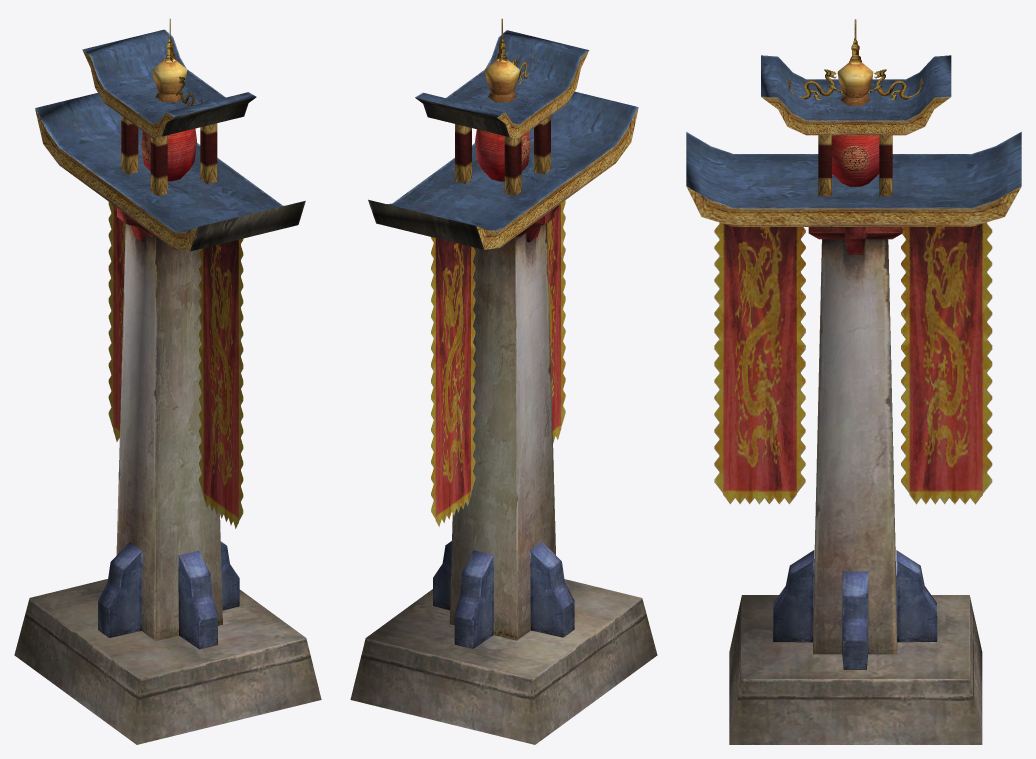
Rendered from cj_jang_gaobj01.glb.
3 renders of one model, left to right at view 1: azimuth 30°, elevation 25°; view 2: azimuth 150°, elevation 25°; view 3: azimuth 270°, elevation 25°, orthographic. The views are drawn at different scales.
Visible parts, largest first — view 1: cj_jang_gateOBJ01, cj_jang_gateOBJ06, cj_jang_gateOBJ02, cj_jang_gateOBJ09, cj_jang_gateOBJ04; view 2: cj_jang_gateOBJ01, cj_jang_gateOBJ06, cj_jang_gateOBJ02, cj_jang_gateOBJ09, cj_jang_gateOBJ04; view 3: cj_jang_gateOBJ09, cj_jang_gateOBJ01, cj_jang_gateOBJ06, cj_jang_gateOBJ02, cj_jang_gateOBJ04, cj_jang_gateOBJ03.
Part boxes in pixels (x1,y1,x2,y2): cj_jang_gateOBJ01: [35, 50, 239, 649]; cj_jang_gateOBJ06: [14, 579, 321, 744]; cj_jang_gateOBJ02: [35, 29, 305, 251]; cj_jang_gateOBJ09: [108, 202, 243, 528]; cj_jang_gateOBJ04: [141, 128, 196, 180]; cj_jang_gateOBJ01: [433, 51, 638, 648]; cj_jang_gateOBJ06: [350, 579, 657, 744]; cj_jang_gateOBJ02: [368, 30, 638, 249]; cj_jang_gateOBJ09: [431, 200, 565, 526]; cj_jang_gateOBJ04: [475, 129, 530, 181]; cj_jang_gateOBJ09: [714, 222, 992, 504]; cj_jang_gateOBJ01: [686, 62, 1021, 669]; cj_jang_gateOBJ06: [729, 595, 982, 744]; cj_jang_gateOBJ02: [686, 55, 1021, 254]; cj_jang_gateOBJ04: [832, 135, 879, 186]; cj_jang_gateOBJ03: [787, 19, 923, 99].
Bounding box in the file's own units: 4.25 × 14.5 × 6.48.
Materials: 6 (6 with a texture image).
